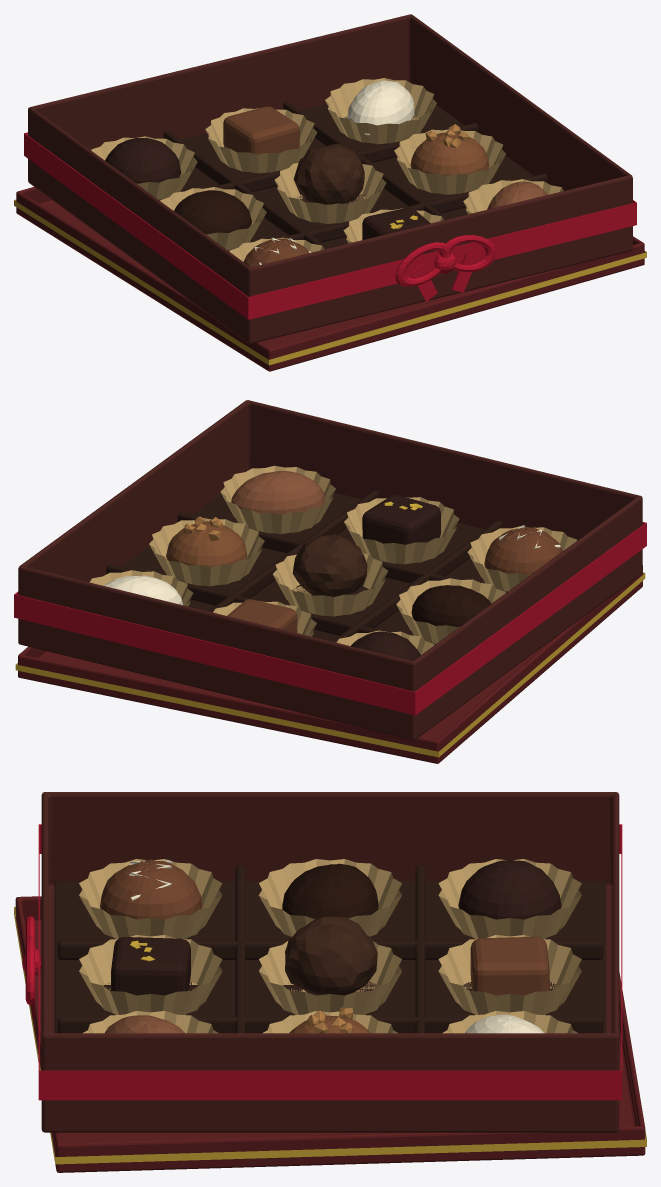
File: boite-chocolats-petite.glb
The picture shows the model from 3 angles, top to bottom: view 1: azimuth 30°, elevation 25°; view 2: azimuth 150°, elevation 25°; view 3: azimuth 270°, elevation 25°; orthographic projection. The views are drawn at different scales.
Visible parts, largest first — view 1: boite-chocolats-petite; view 2: boite-chocolats-petite; view 3: boite-chocolats-petite.
Boxes of the visible parts, x1,y1,x2,y2 form: boite-chocolats-petite: (14, 14, 646, 371); boite-chocolats-petite: (14, 400, 646, 763); boite-chocolats-petite: (14, 792, 646, 1172).
Size of the model in its own units: 0.1972 by 0.044 by 0.1972.
